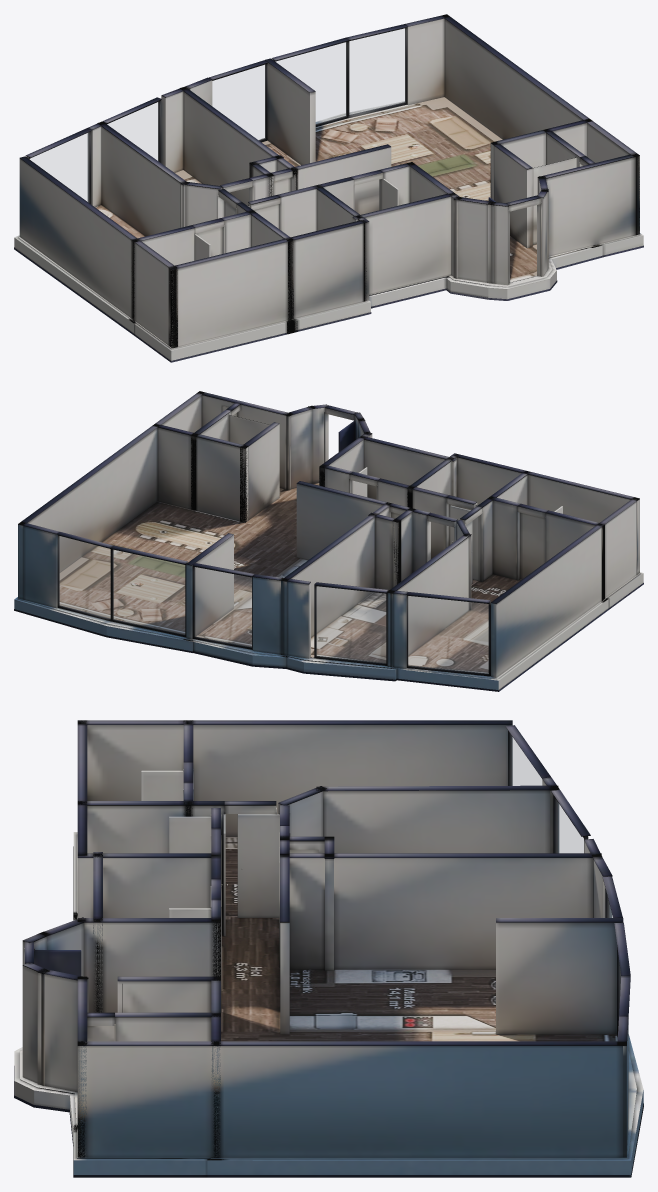
3 renders of one model, top to bottom at view 1: azimuth 30°, elevation 25°; view 2: azimuth 150°, elevation 25°; view 3: azimuth 270°, elevation 25°, orthographic. The views are drawn at different scales.
Visible parts, largest first — view 1: plan, glass4_m, glass3_m, glass2_m, glass0_m, glass1_m; view 2: plan, glass0_m, glass3_m, glass1_m, glass2_m, glass4_m; view 3: plan, glass0_m, glass1_m.
Part boxes in pixels (box(x1,y1,x2,y2)): plan: box(14, 14, 643, 362); glass4_m: box(349, 28, 405, 114); glass3_m: box(276, 42, 346, 124); glass2_m: box(212, 65, 265, 140); glass0_m: box(30, 133, 89, 202); glass1_m: box(107, 102, 158, 160); plan: box(14, 391, 643, 691); glass0_m: box(408, 596, 488, 673); glass3_m: box(113, 550, 184, 634); glass1_m: box(316, 586, 385, 663); glass2_m: box(195, 567, 251, 647); glass4_m: box(59, 536, 110, 618); plan: box(14, 720, 643, 1177); glass0_m: box(510, 734, 541, 785); glass1_m: box(556, 800, 583, 852).
Bounding box in the file's own units: 14.23 × 2.62 × 11.49.
2 materials, 1 textured.
